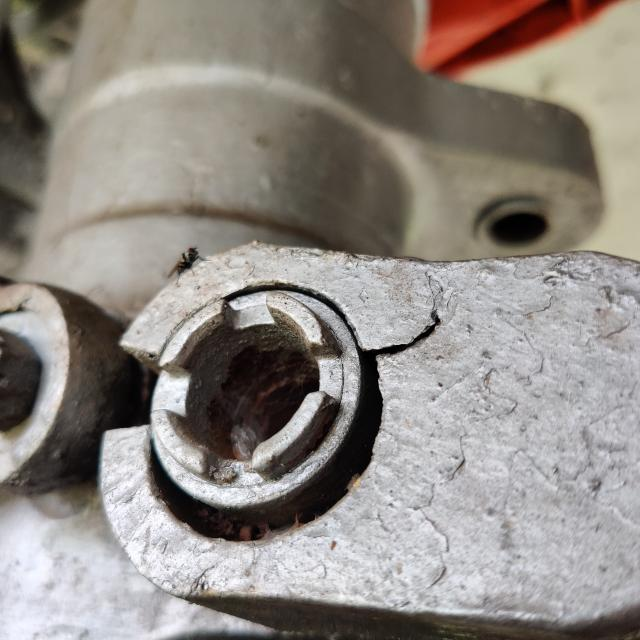crack: (352, 290, 459, 376)
